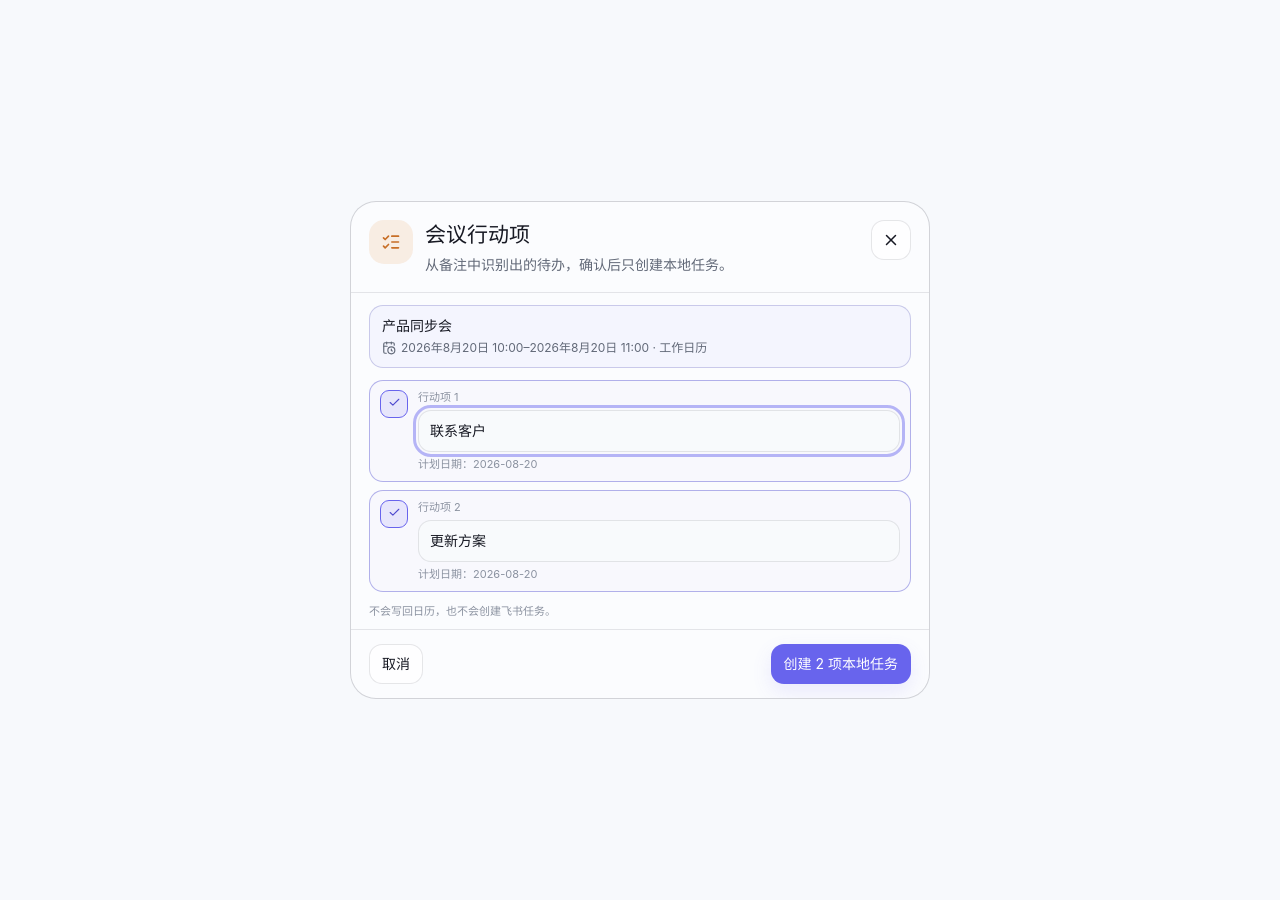
it: CalendarActionItemsSheet › keeps the preview open and exposes an actionable error when creation fails
Step 1. Click the button "创建 2 项本地任务" → click(841, 664), box [771,644,911,684]
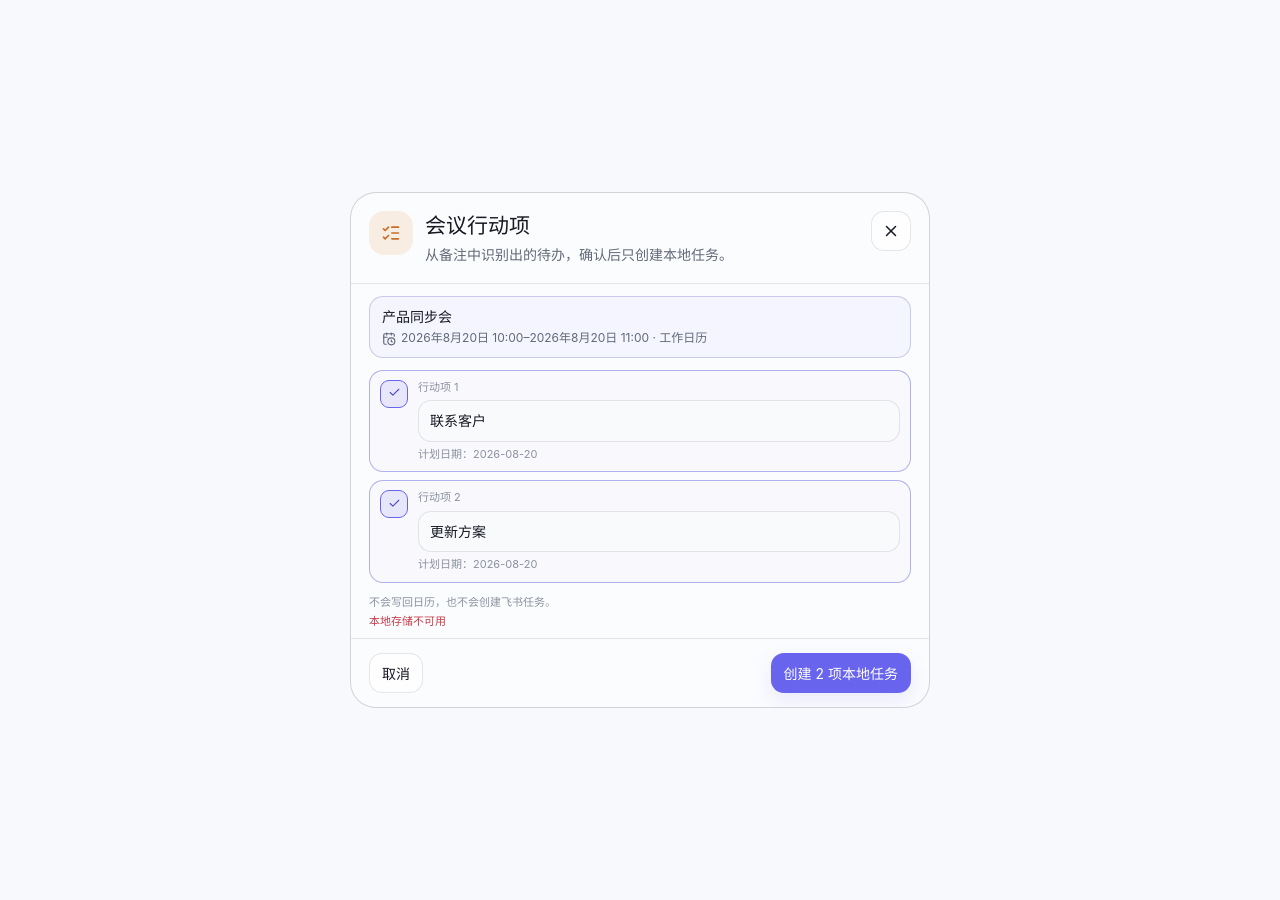
Expected: the button "创建 2 项本地任务" is shown, [771,654,911,694]
Result: the message reads "本地存储不可用" at [369,614,446,628]
